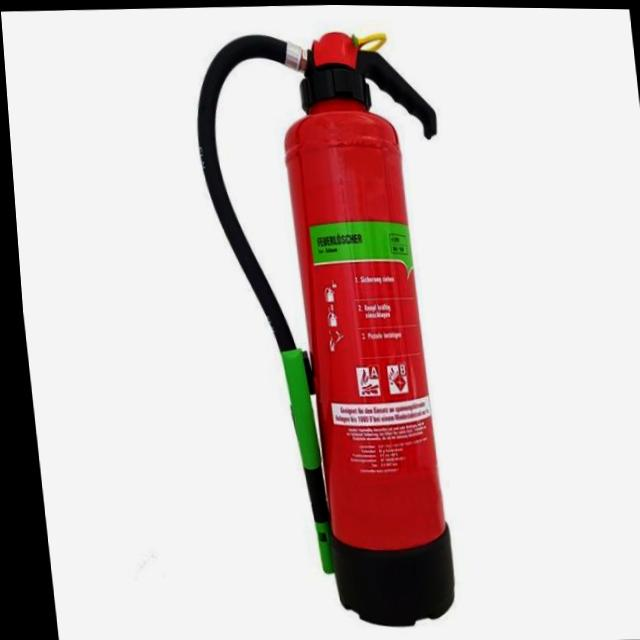FireExtinguisher: (176, 9, 487, 640)
